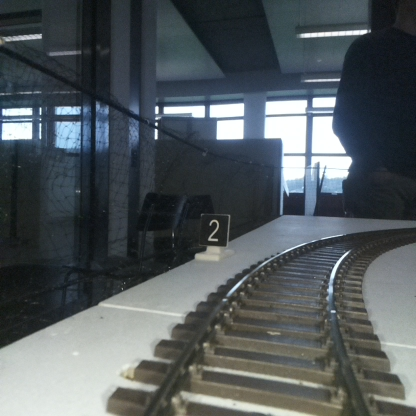black-stop-2: (200, 215, 228, 260)
